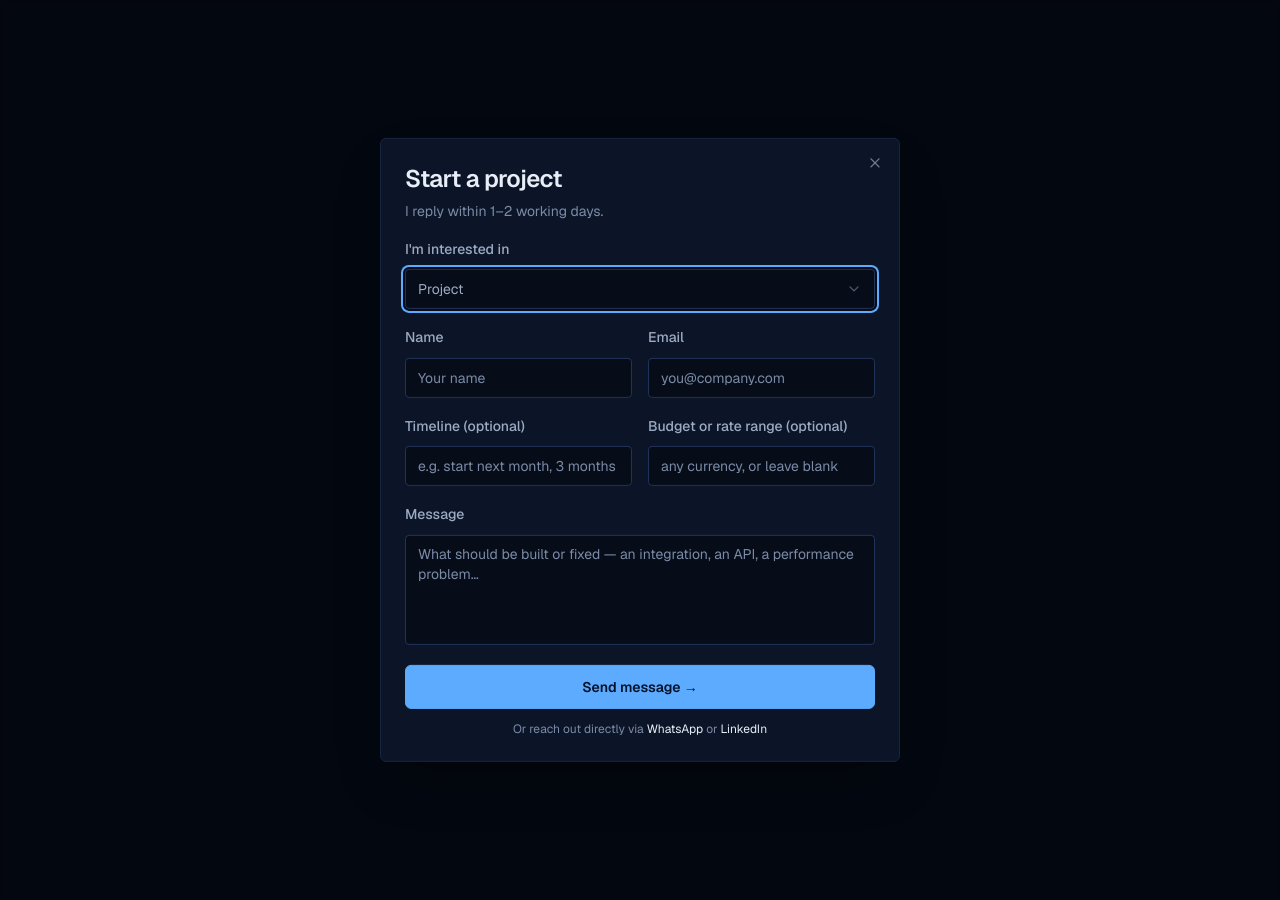
ContactFormDialog › posts the brief to Web3Forms with subject, interest and reply-to
Type "Jane Doe" into the field labelled "Name" at (518, 378), box [405,358,632,398]
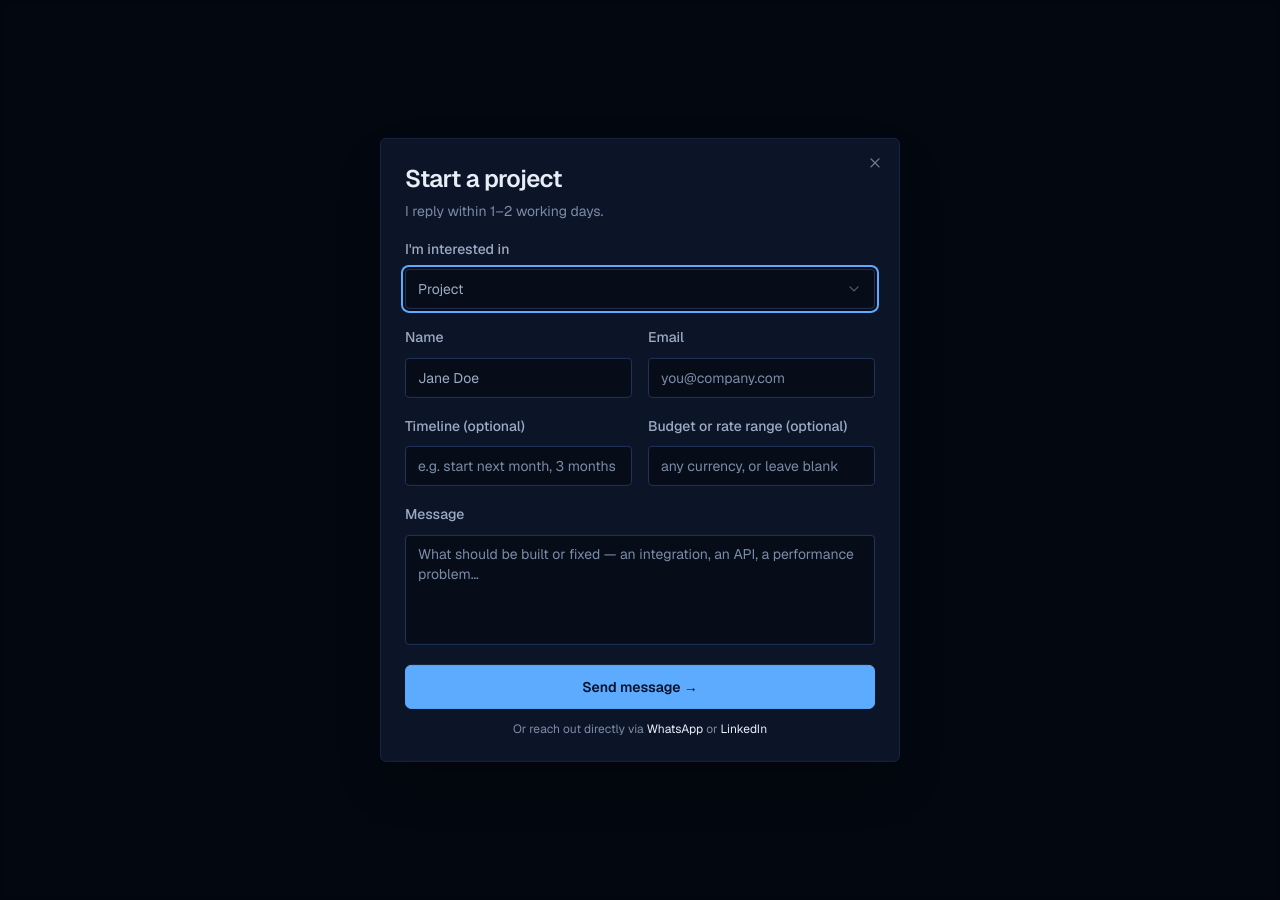
Type "jane@example.com" into the field labelled "Email" at (762, 378), box [648,358,875,398]
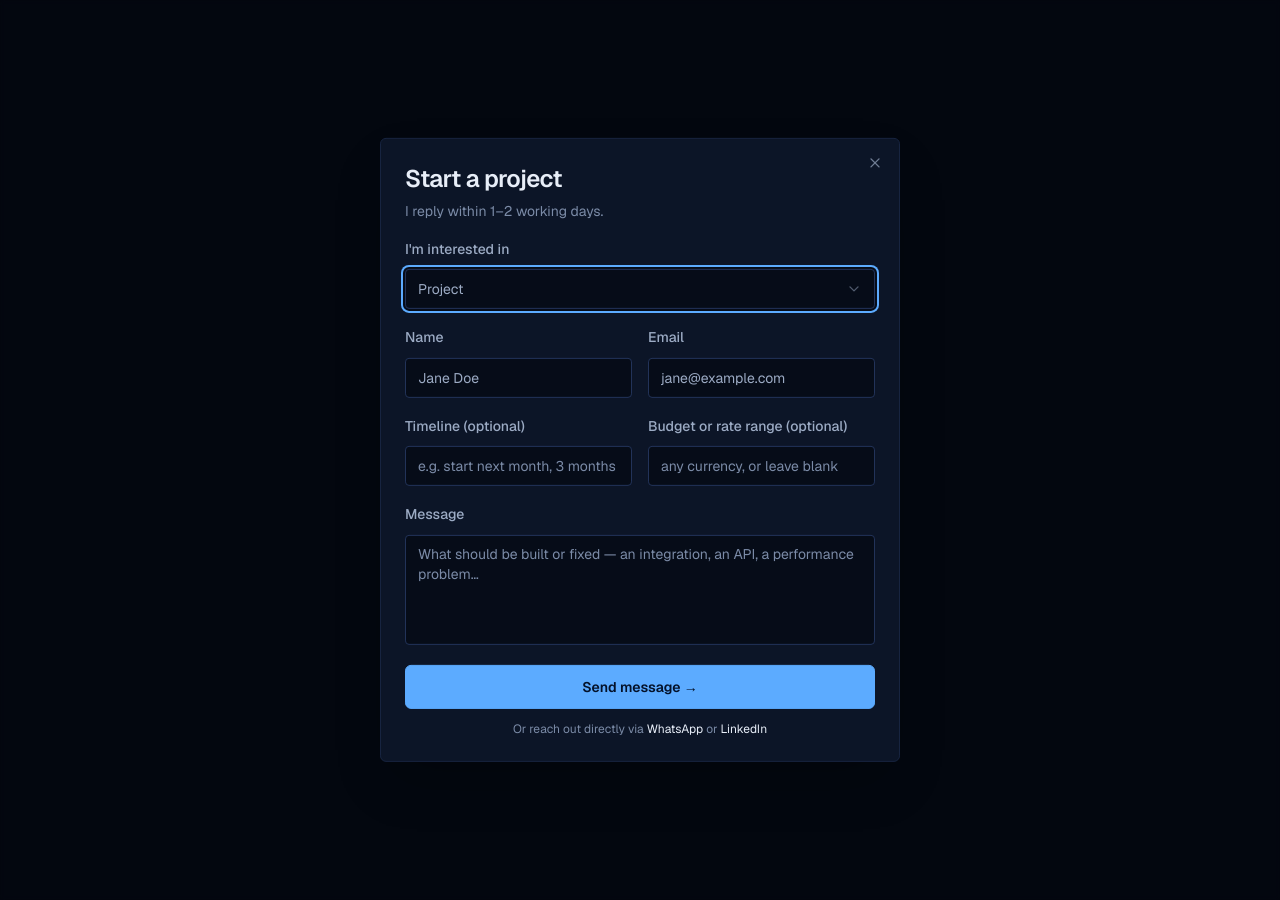
Replace the text in the text box labelled "Message" with "We need an SAP integration." at (640, 589), box [405,534,875,644]
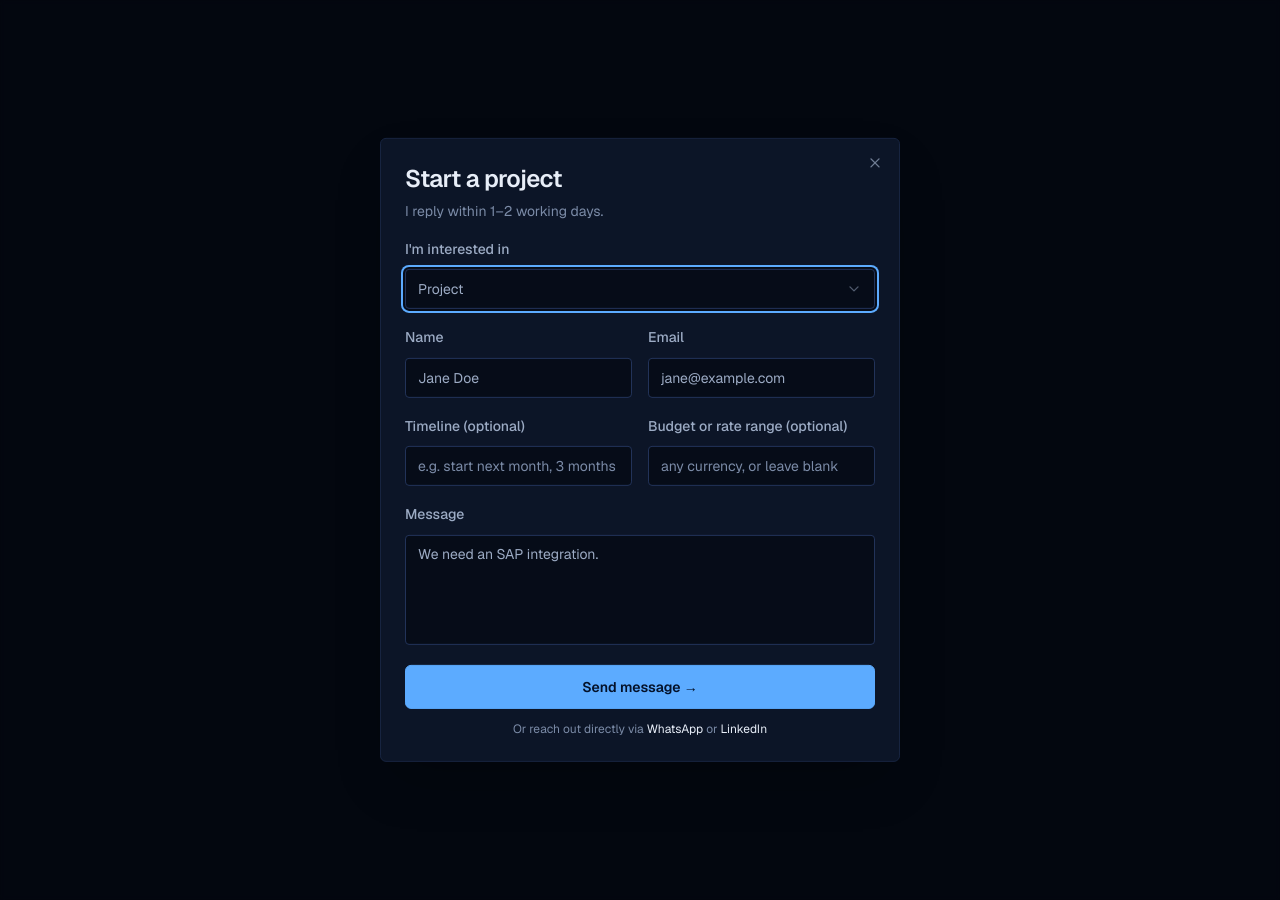
Click the button "Send message →" at (640, 687), box [405,664,875,709]
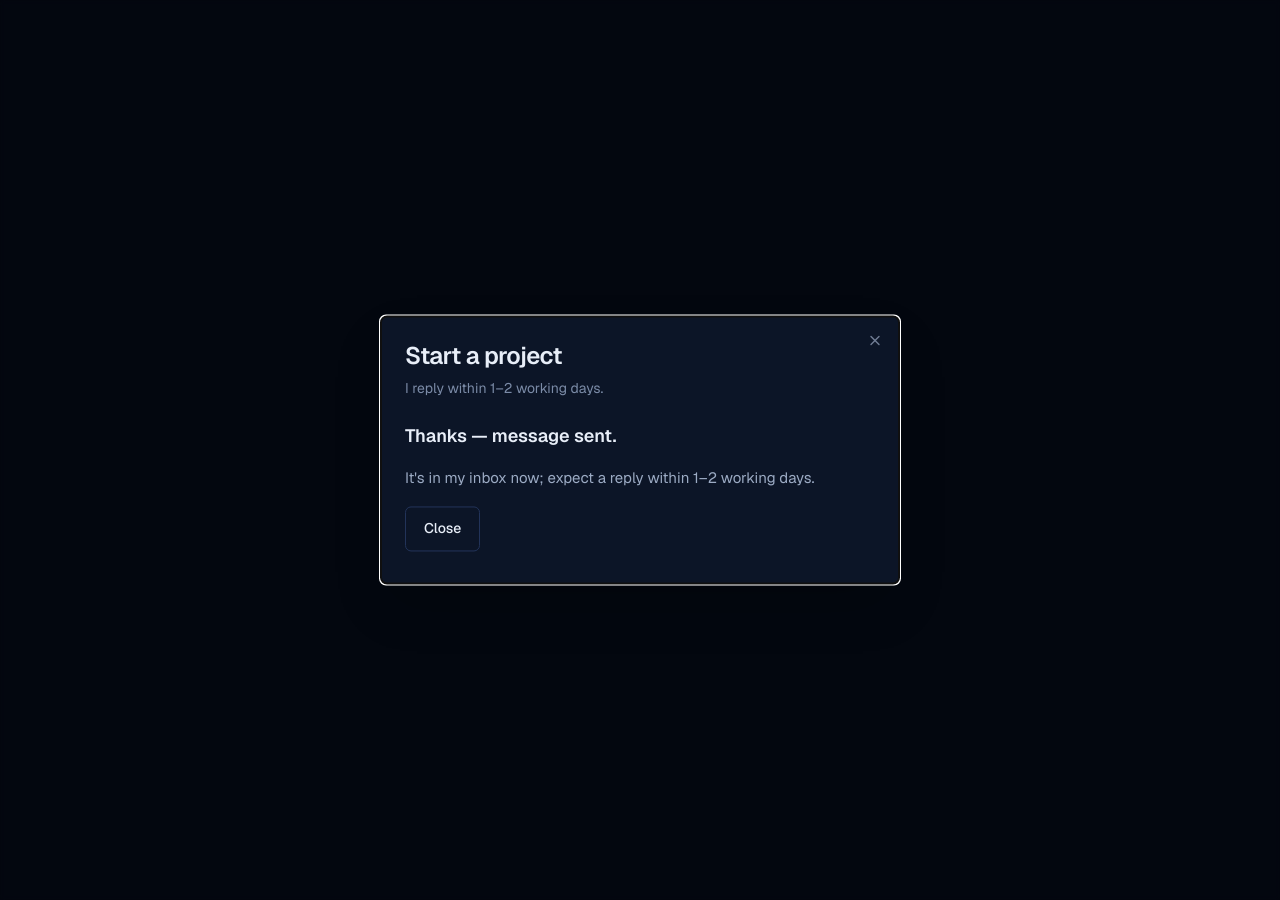
Check: the text "Thanks — message sent." is shown, box [405,424,617,447]
